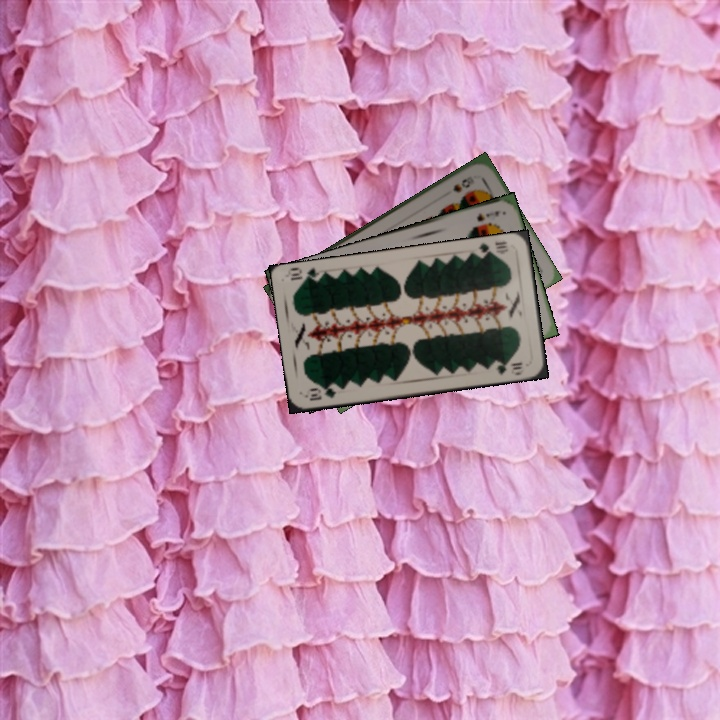G10: (474, 237, 511, 259), (306, 383, 339, 403)
S8: (448, 172, 477, 195)
SO: (473, 207, 503, 224)
